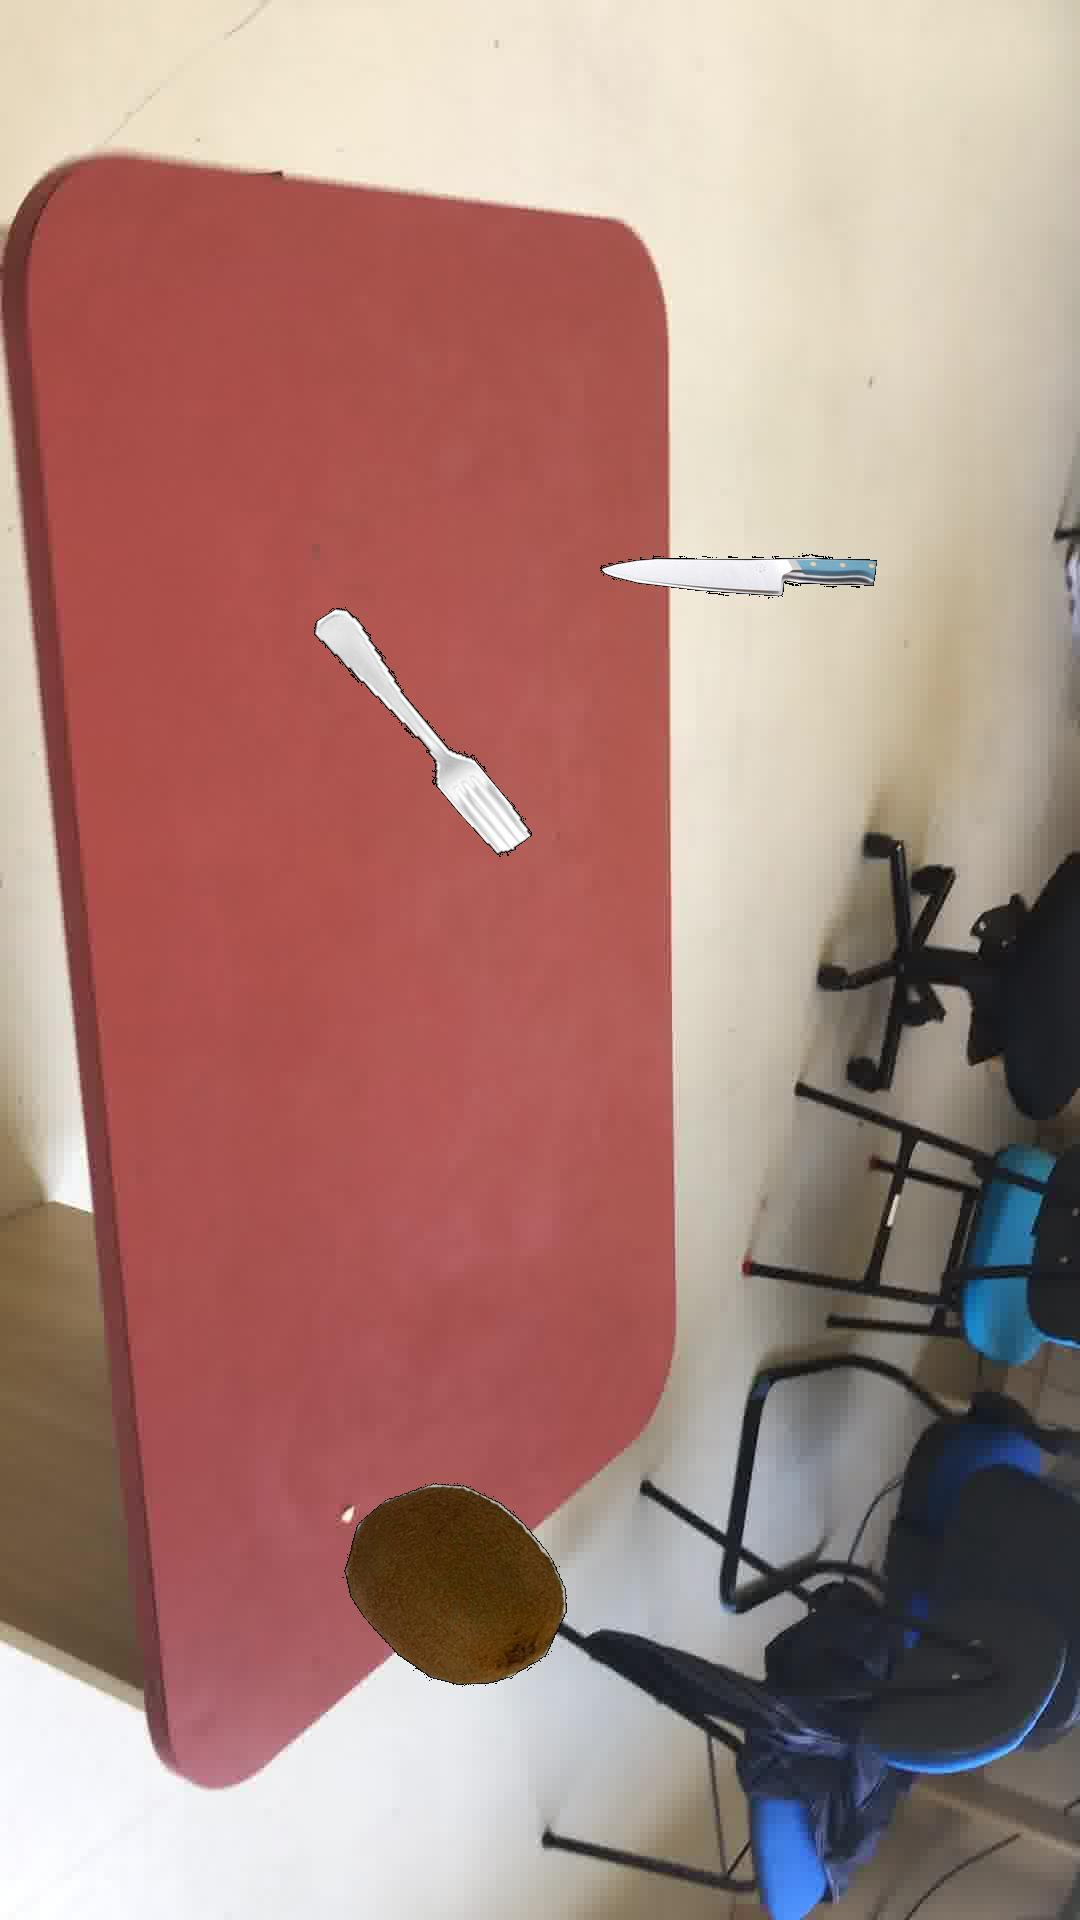fork: (313, 607, 530, 855)
kiwi: (343, 1481, 566, 1684)
knife: (599, 553, 876, 596)
